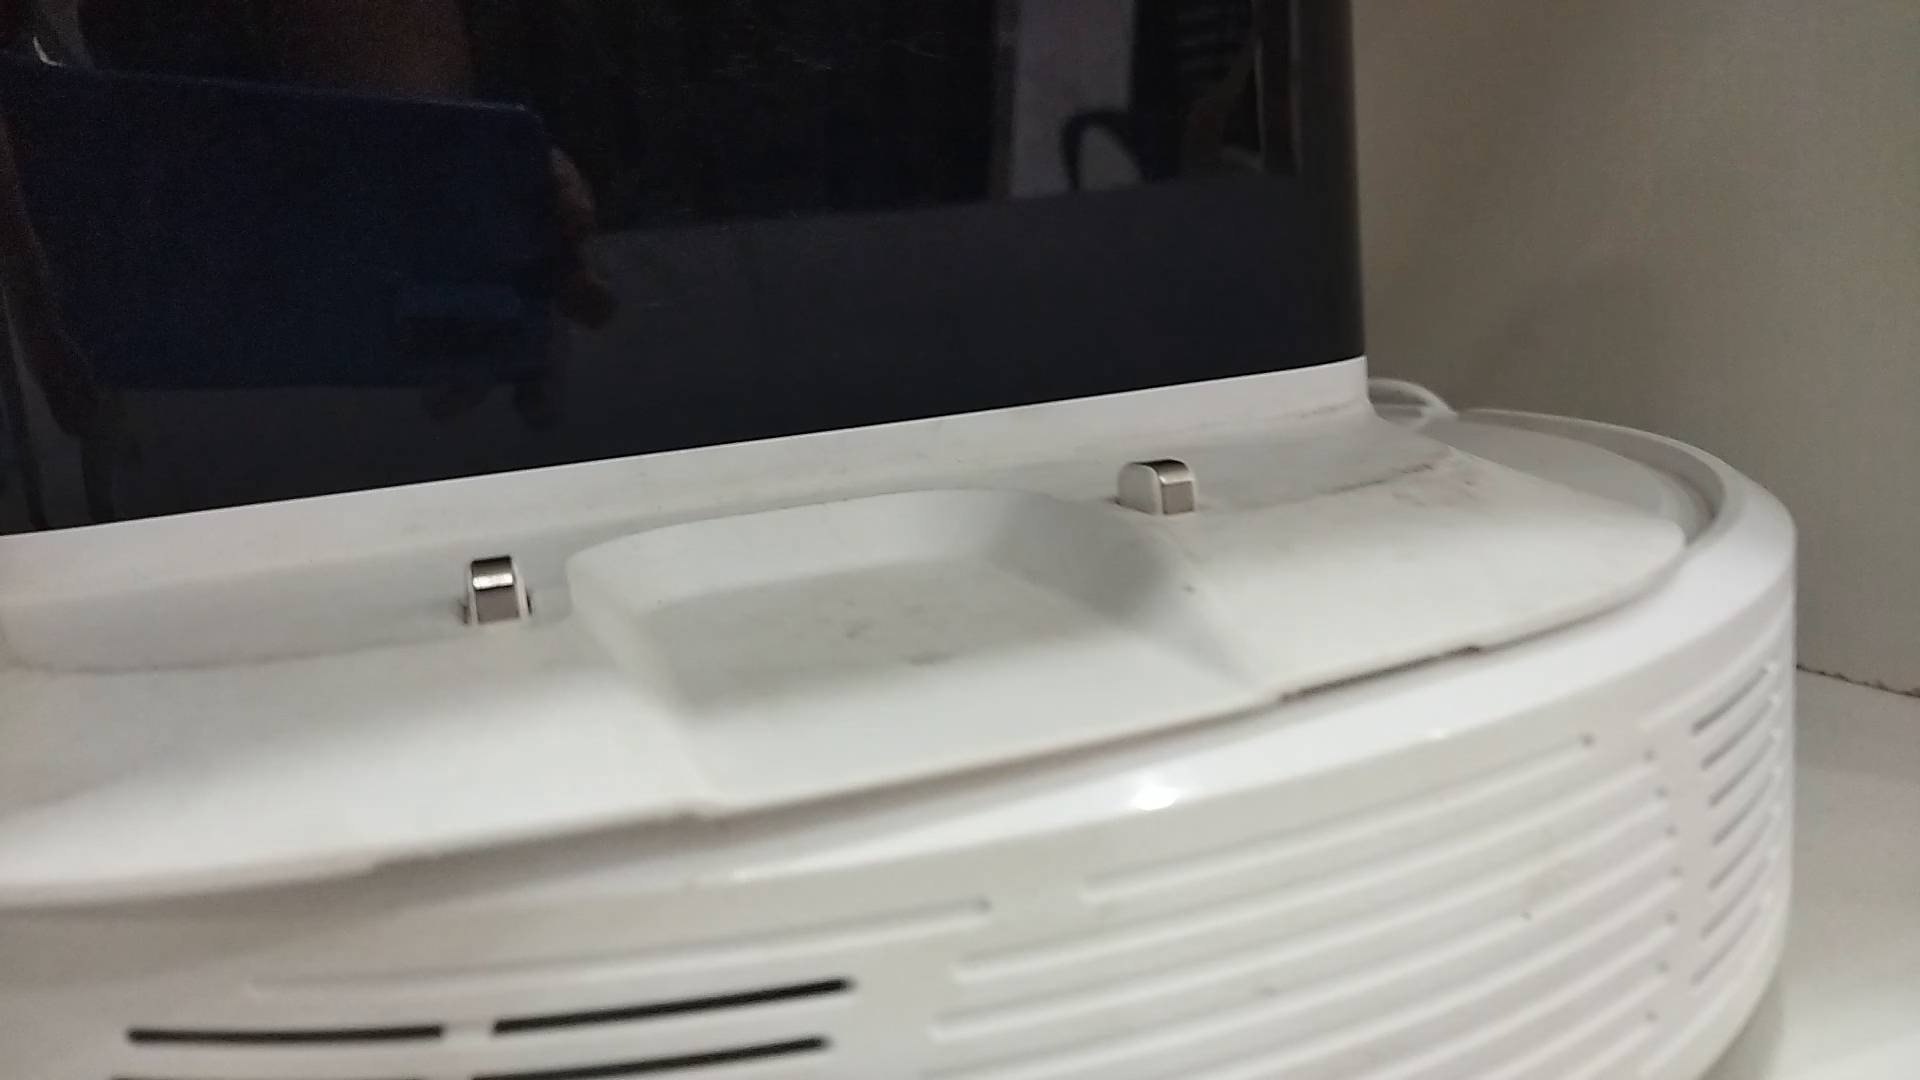recharge seat: (1, 1, 1695, 905)
